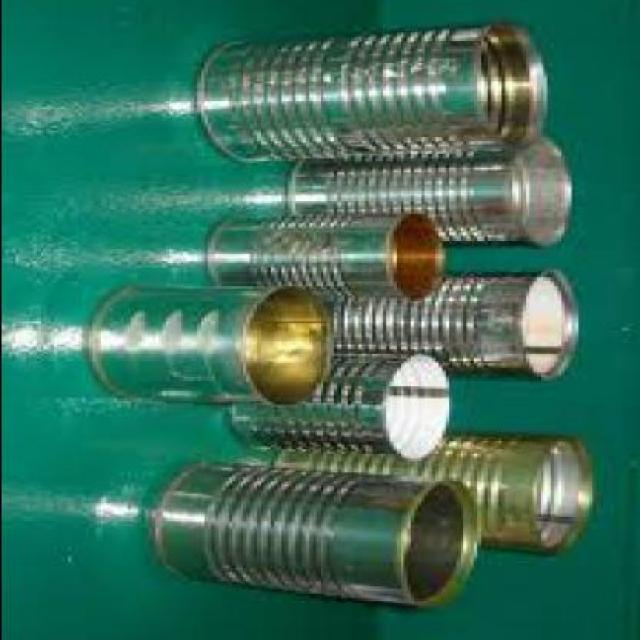METAL: (150, 460, 482, 614), (199, 26, 553, 168), (272, 426, 591, 559), (283, 137, 577, 254), (322, 270, 584, 387), (87, 286, 339, 405), (231, 356, 455, 466), (206, 212, 451, 305)
